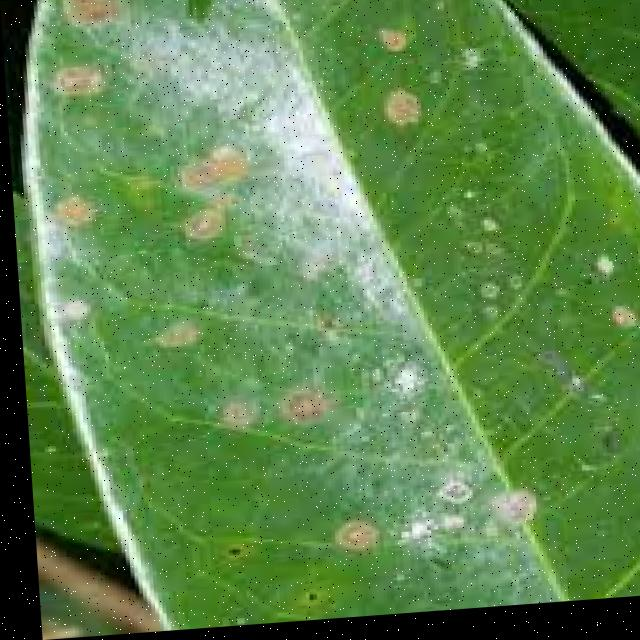Anthracnose: (25, 0, 640, 639)
